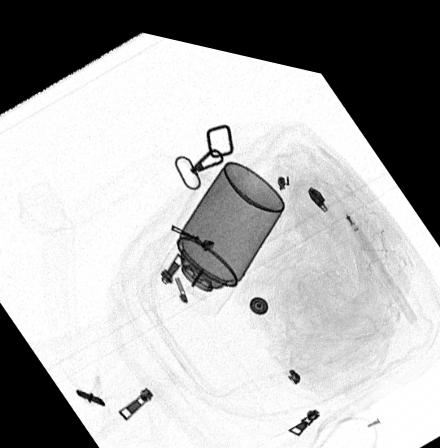Sprayer: (157, 151, 284, 305)
